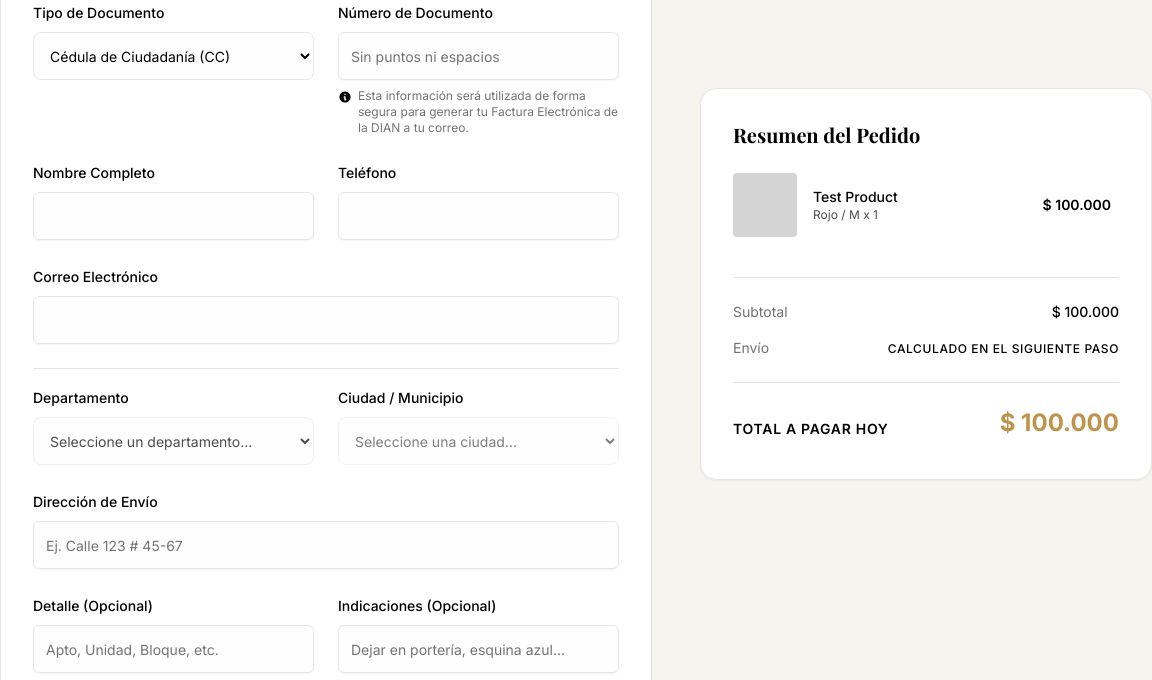
CheckoutForm › applies discount code
(page scrolled)
# Need email to apply discount
Type "test@test.com" into the field labelled "Correo Electrónico" at x=326, y=320, box [33,296,619,344]
(page scrolled)
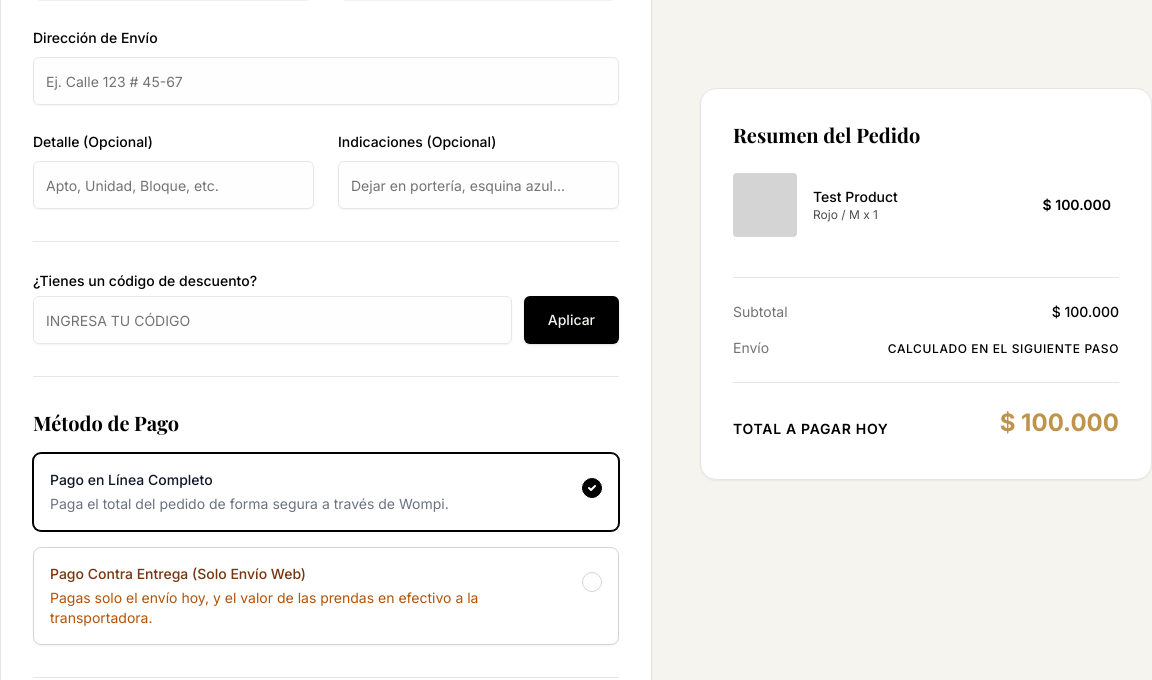
Type "DESC10" into the field with placeholder "Ingresa tu código" at x=272, y=320, box [33,296,512,344]
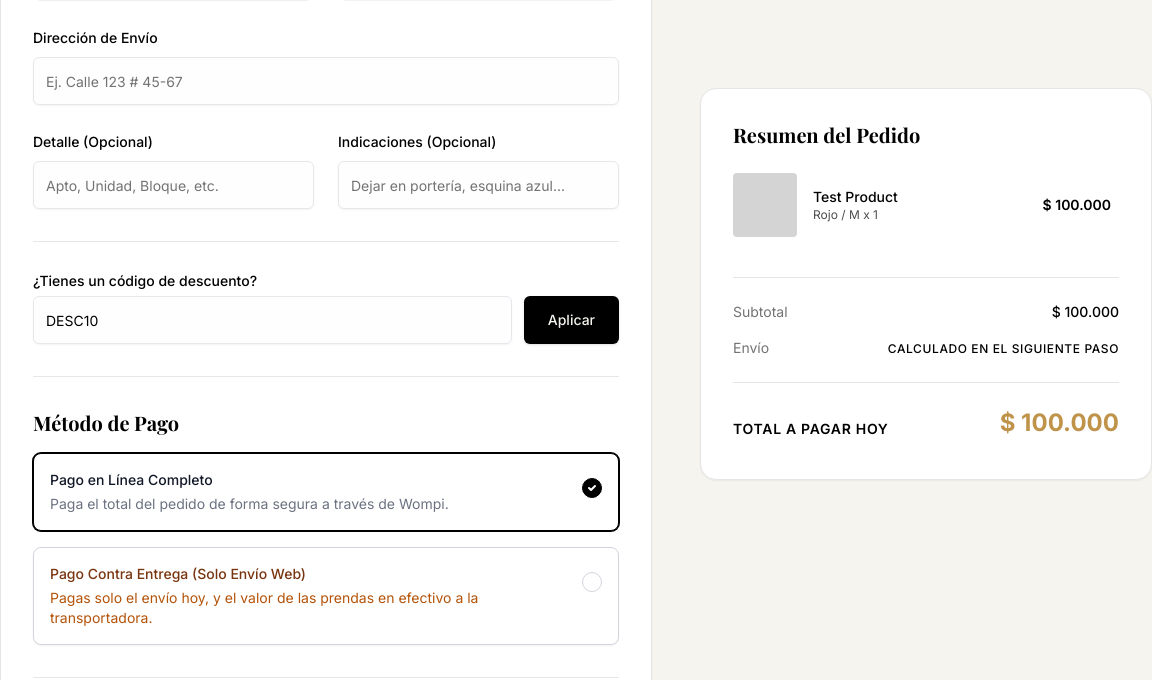
Click the button "Aplicar" at x=571, y=320, box [524,296,619,344]
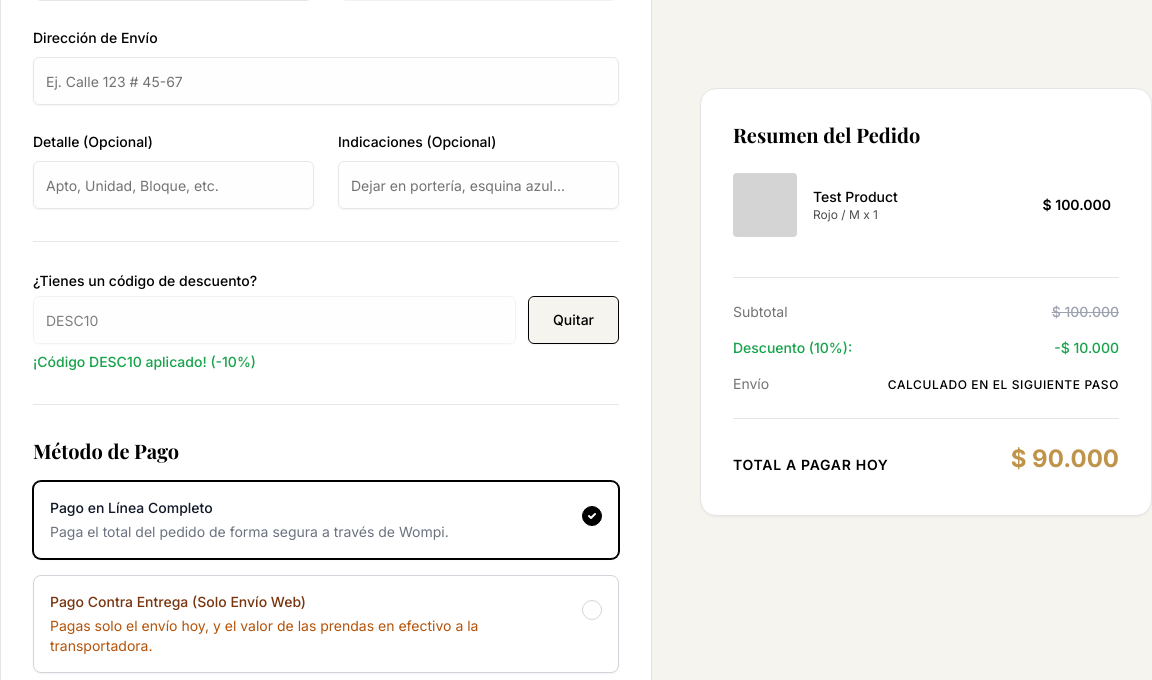
Expected: the text "¡Código DESC10 aplicado! (-10%)" is shown, [33,353,256,370]
